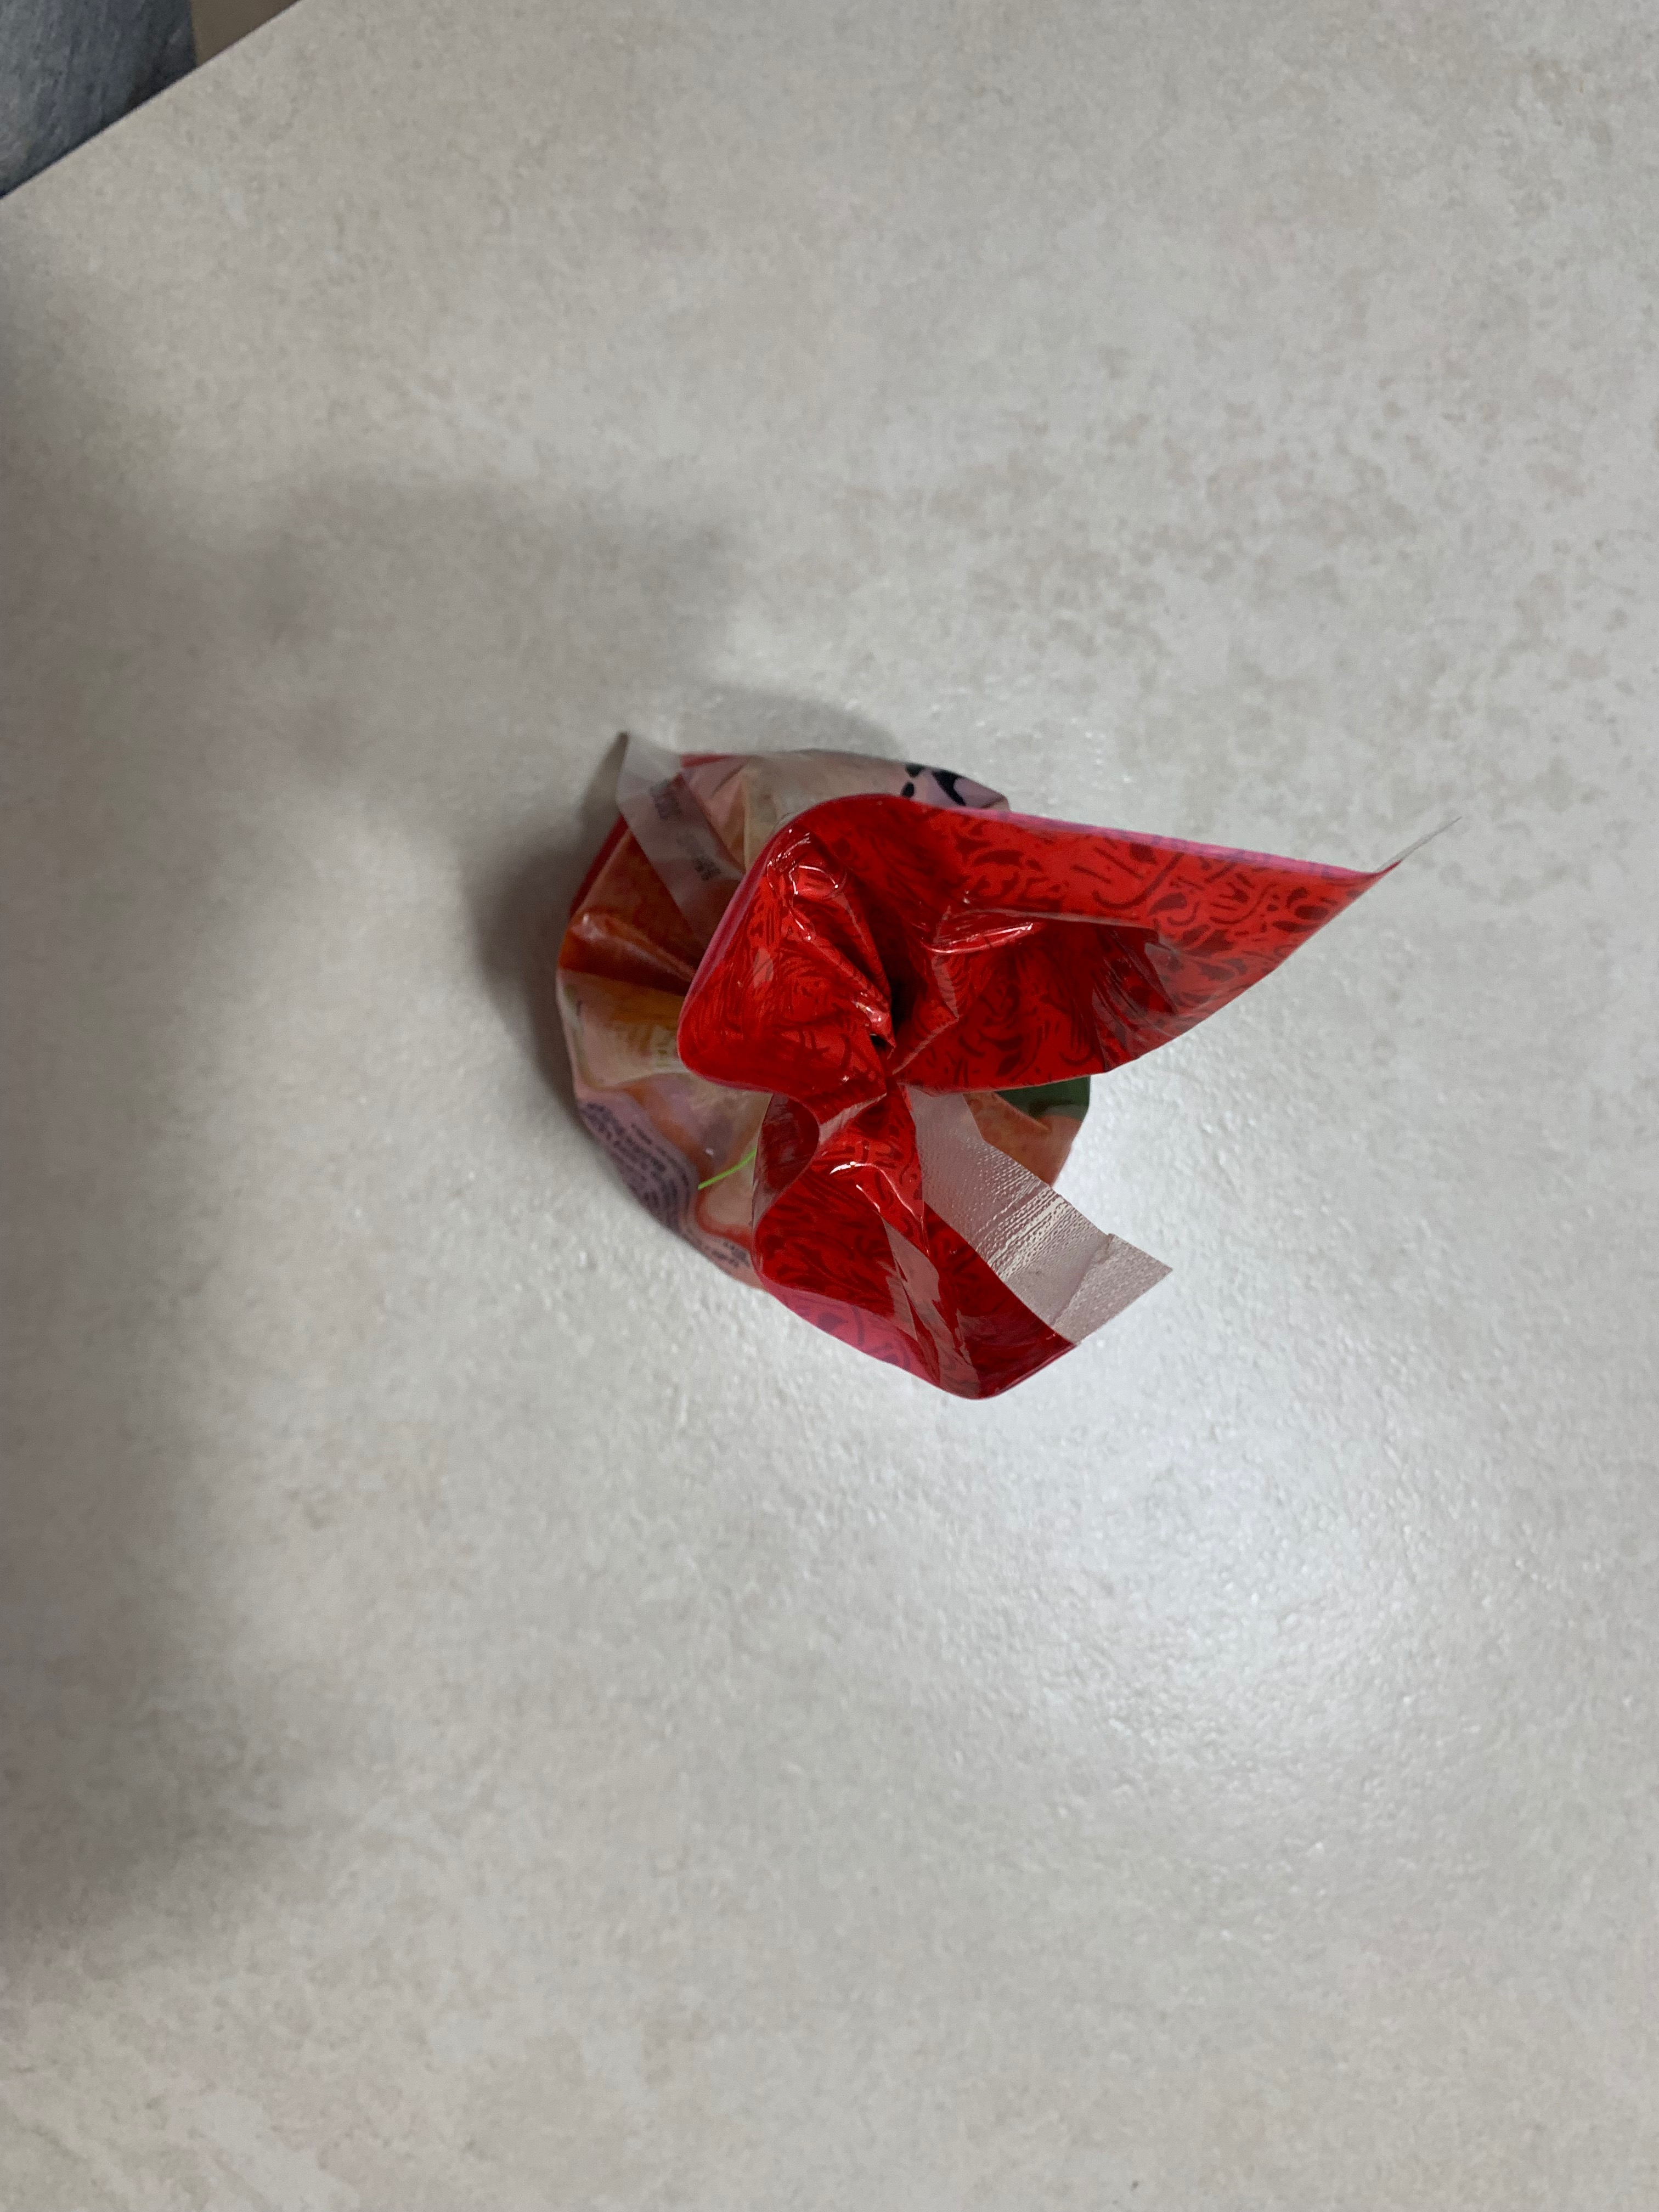kimchi: (547, 733, 1345, 1402)
